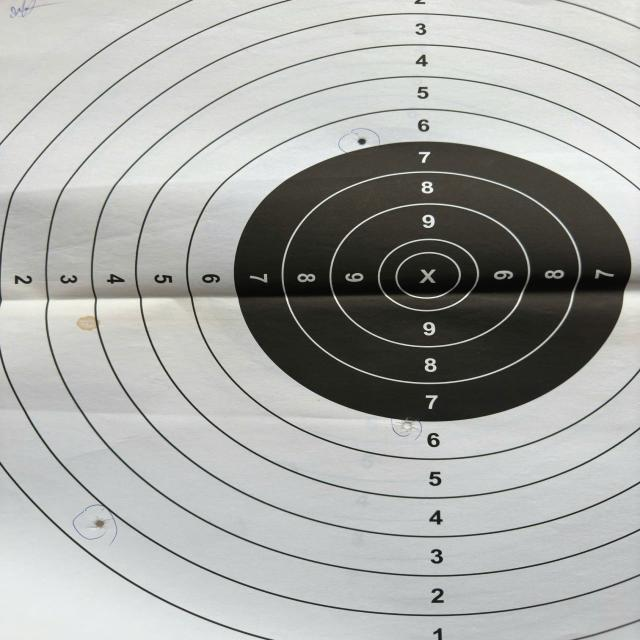bullet: (401, 420, 414, 433), (356, 136, 367, 148), (92, 520, 104, 528)
